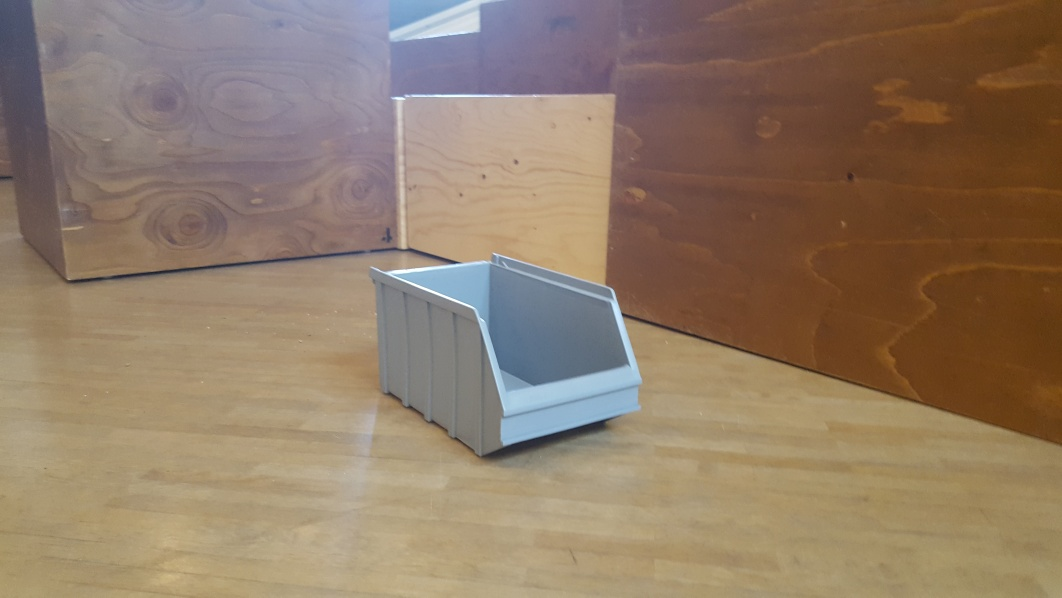tray: (368, 253, 643, 459)
